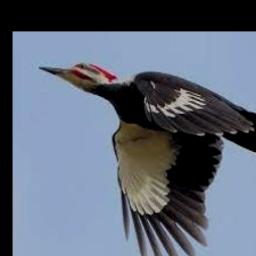Woodpecker: (38, 62, 256, 256)
